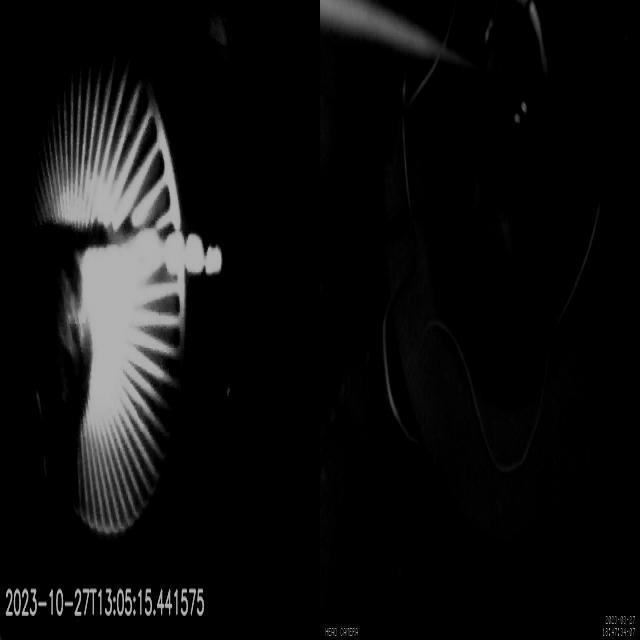white-dots: (165, 232, 222, 280)
